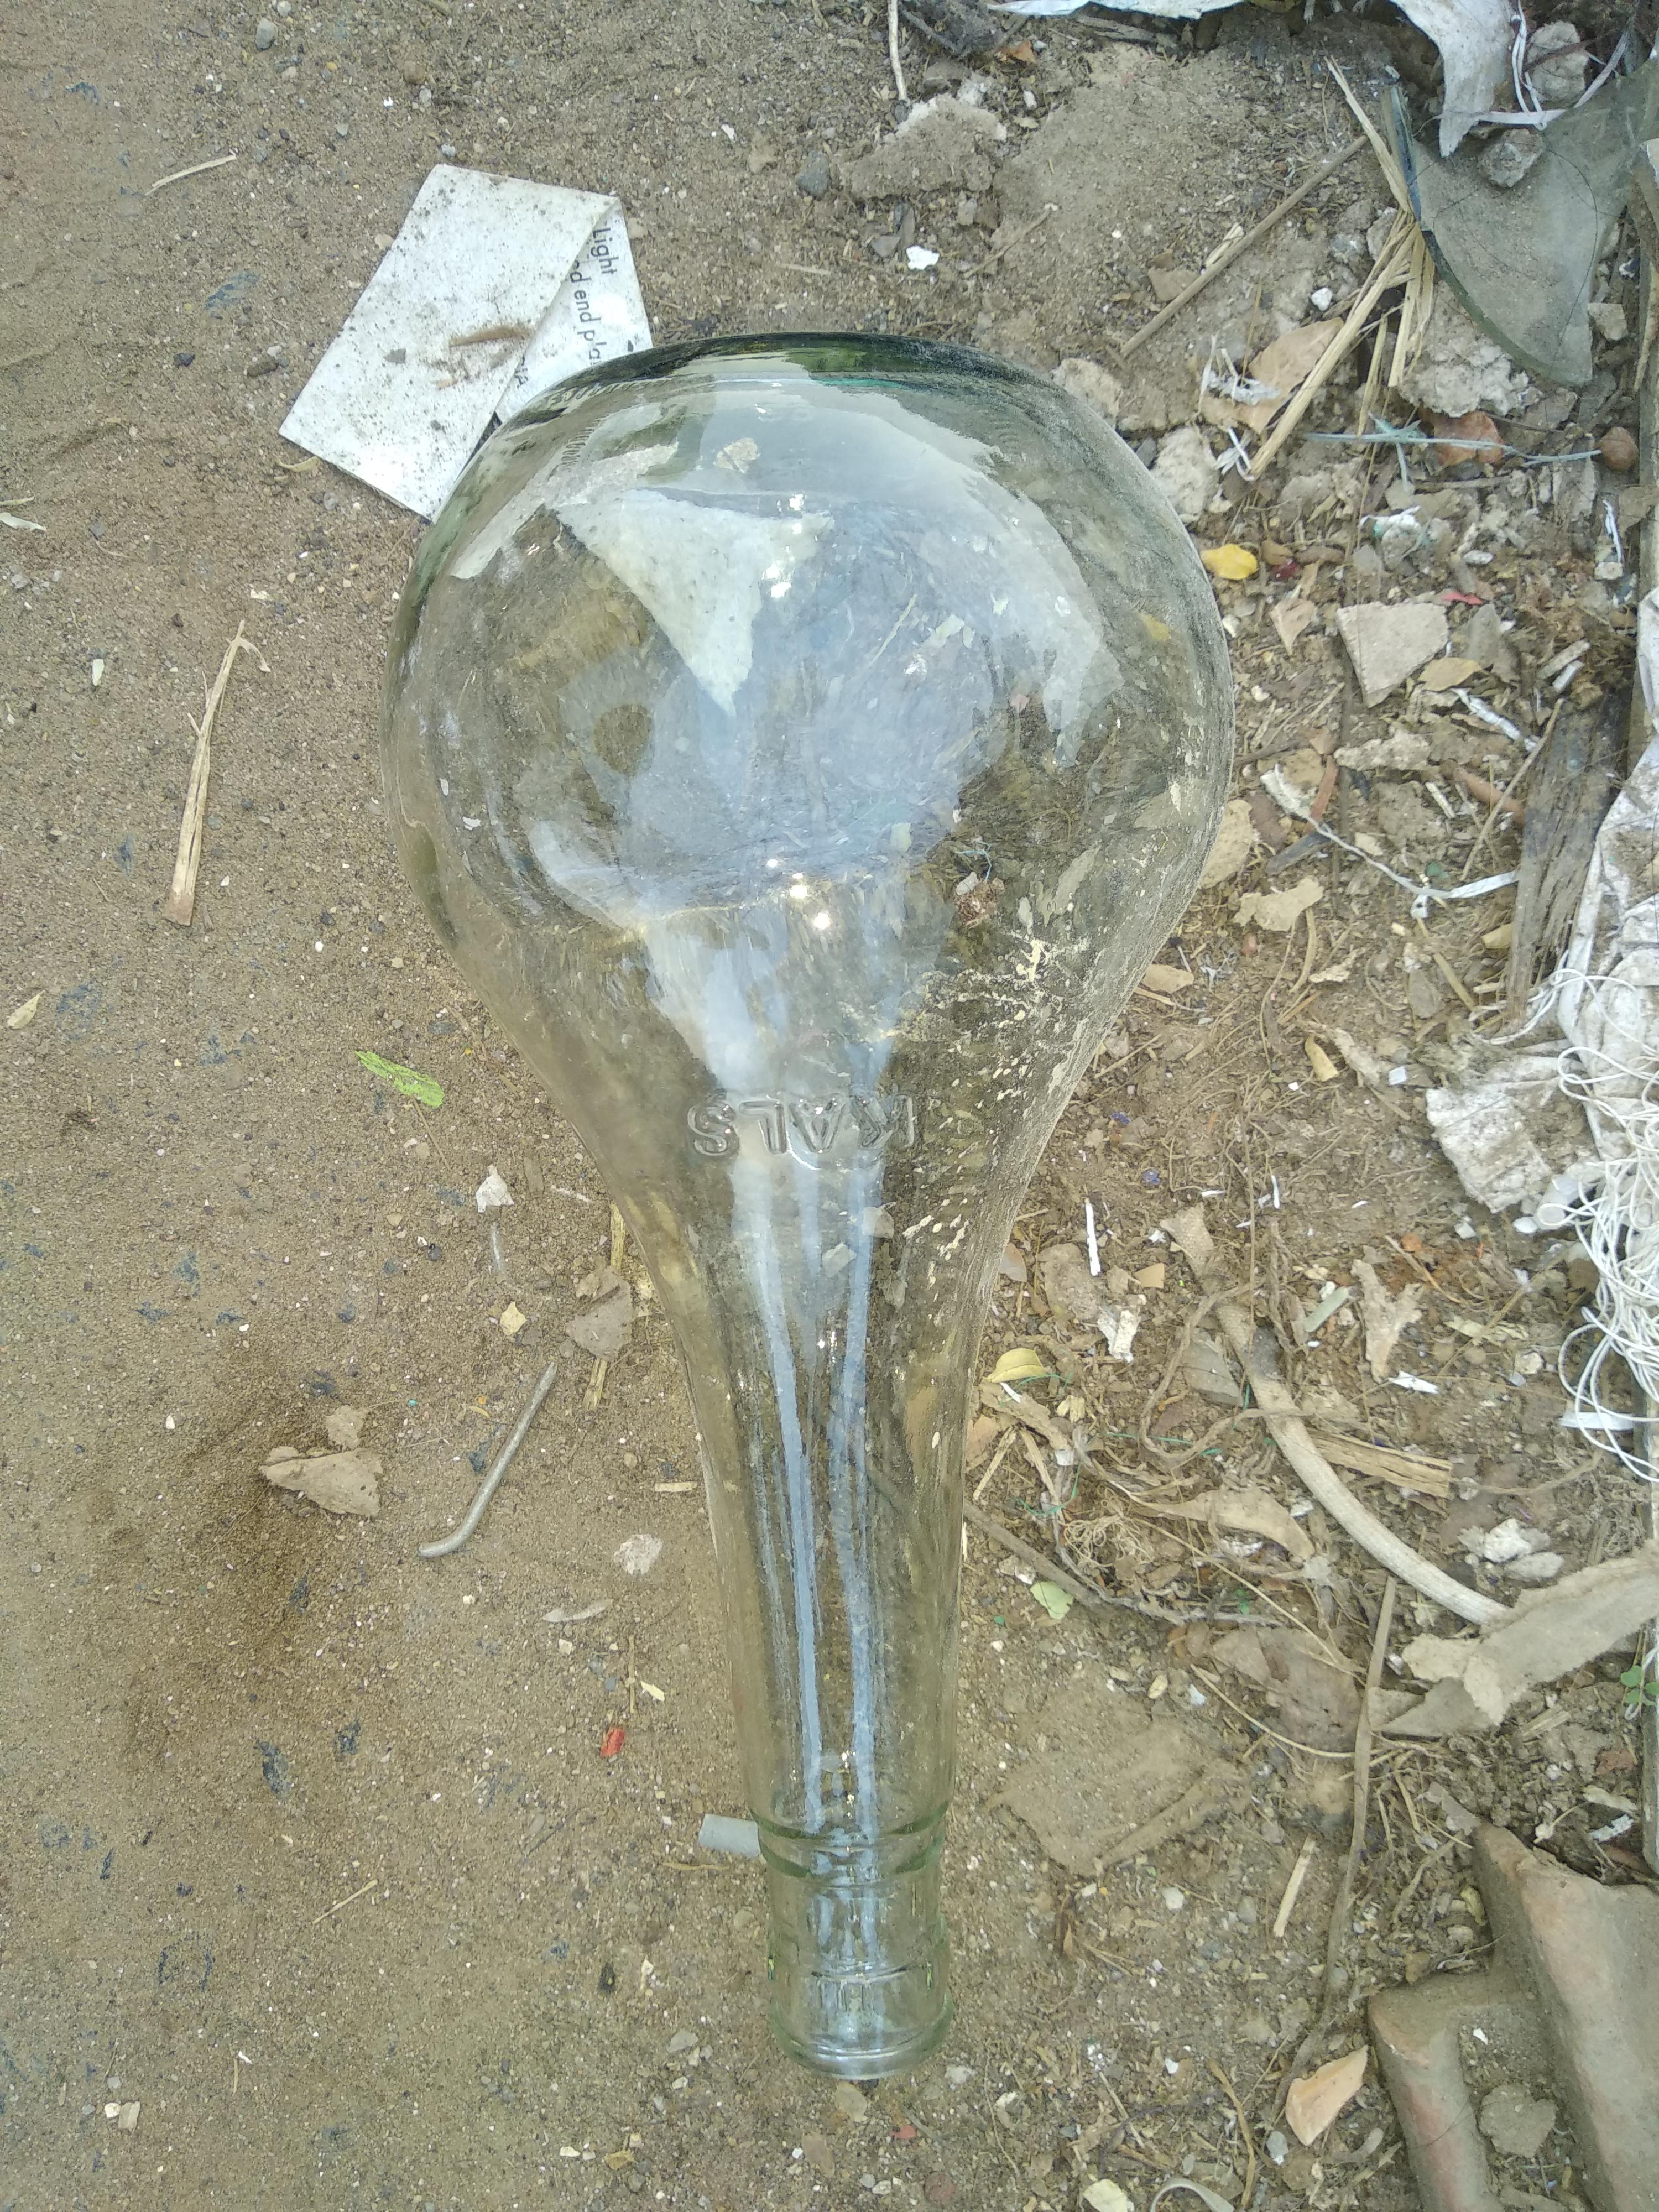trash: (371, 315, 1255, 2074)
